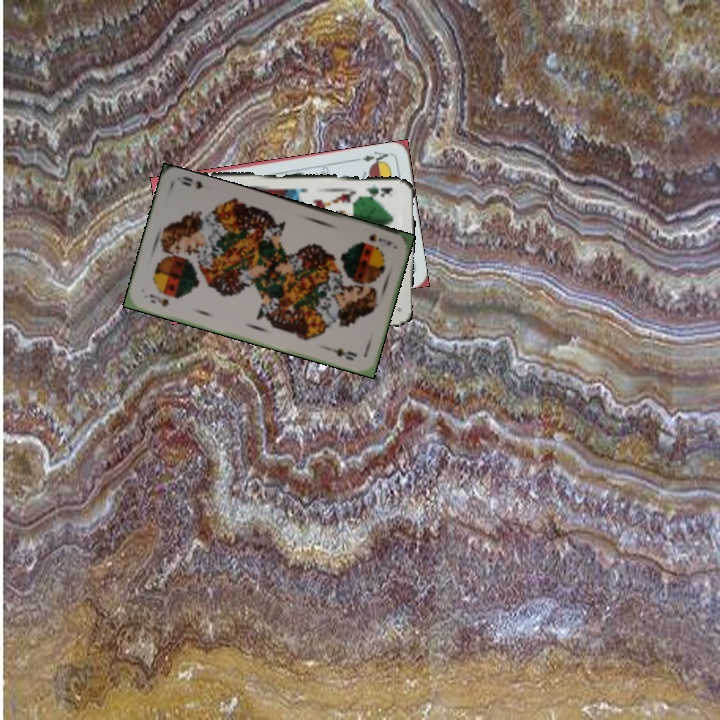EA: (353, 147, 393, 168)
GK: (359, 180, 395, 199)
SO: (365, 229, 395, 249), (145, 290, 171, 309)
